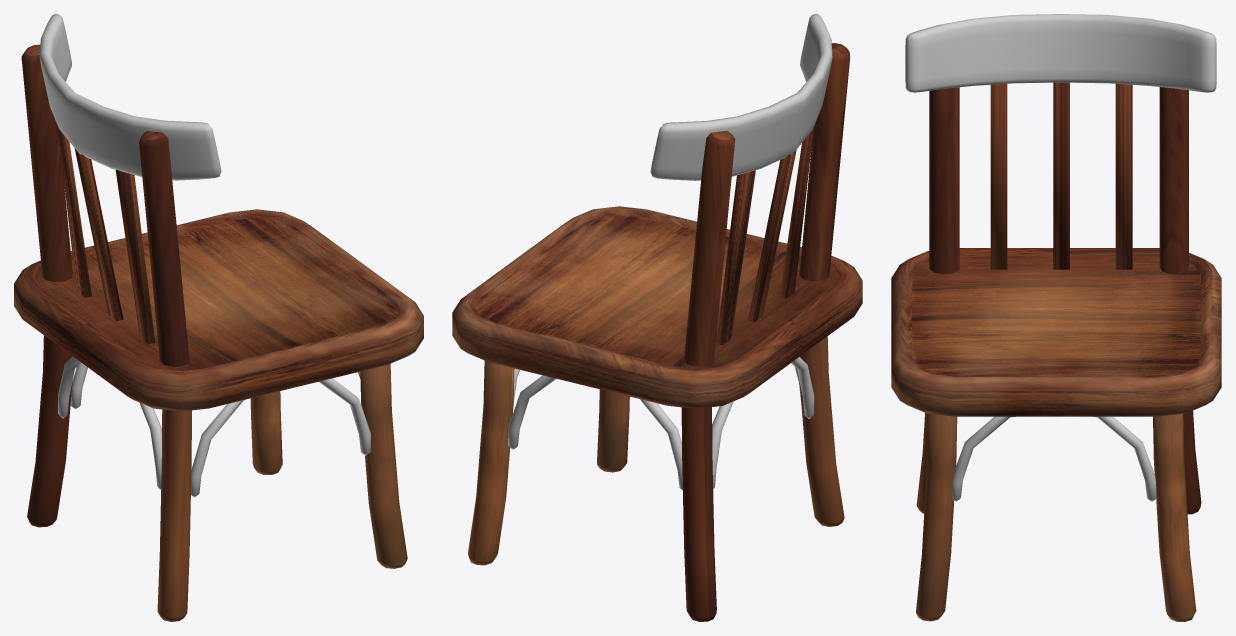
The model's file is chairr.fbx.
3 views of the same model, side by side, from view 1: azimuth 30°, elevation 25°; view 2: azimuth 150°, elevation 25°; view 3: azimuth 270°, elevation 25° (orthographic).
Visible parts, largest first — view 1: Cylinder.003; view 2: Cylinder.003; view 3: Cylinder.003.
Part boxes in pixels (x1,y1,x2,y2): Cylinder.003: (14,14,423,621); Cylinder.003: (452,14,862,621); Cylinder.003: (891,14,1221,621).
Bounding box in the file's own units: 96.36 × 98.15 × 157.
